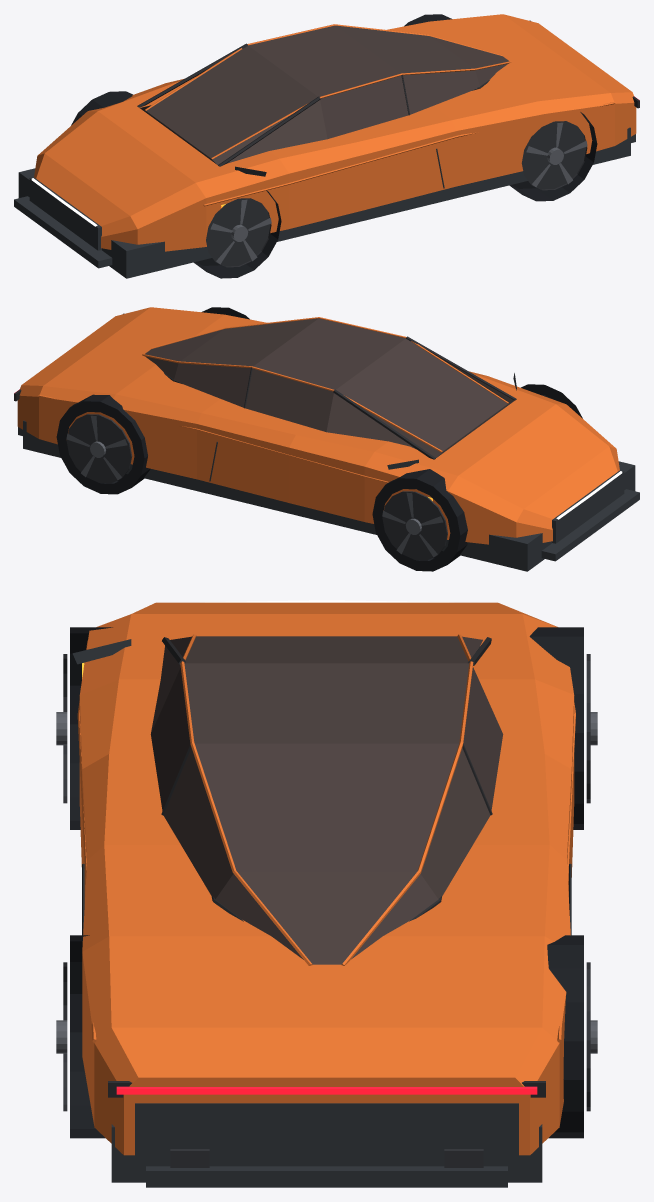
The model's file is roadster_08_orange.glb.
3 views of the same model, one above another, from view 1: azimuth 30°, elevation 25°; view 2: azimuth 150°, elevation 25°; view 3: azimuth 270°, elevation 25° (orthographic). The views are drawn at different scales.
Visible parts, largest first — view 1: Web mesh - Ano White satin.007, Smoked panoramic canopy, Web mesh - Graphite lower aero.007, Web mesh - Hub center.007, Web mesh - Tire rubber.007, Web mesh - Wheel dark alloy.007, Web mesh - Dark window trim.007; view 2: Web mesh - Ano White satin.007, Smoked panoramic canopy, Web mesh - Graphite lower aero.007, Web mesh - Tire rubber.007, Web mesh - Hub center.007, Web mesh - Wheel dark alloy.007, Web mesh - Dark window trim.007; view 3: Web mesh - Ano White satin.007, Smoked panoramic canopy, Web mesh - Graphite lower aero.007, Web mesh - Tire rubber.007, Web mesh - Hub center.007, Web mesh - Rear light red.007, Web mesh - Dark window trim.007, Web mesh - Wheel dark alloy.007.
Part boxes in pixels (x1,y1,x2,y2): Web mesh - Ano White satin.007: (34,14,636,251); Smoked panoramic canopy: (140,25,508,164); Web mesh - Graphite lower aero.007: (14,127,635,278); Web mesh - Hub center.007: (206,121,587,267); Web mesh - Tire rubber.007: (71,14,597,278); Web mesh - Wheel dark alloy.007: (210,122,587,264); Web mesh - Dark window trim.007: (137,20,639,166); Web mesh - Ano White satin.007: (17,307,619,544); Smoked panoramic canopy: (145,318,514,457); Web mesh - Graphite lower aero.007: (18,373,639,571); Web mesh - Tire rubber.007: (56,307,582,571); Web mesh - Hub center.007: (66,395,556,560); Web mesh - Wheel dark alloy.007: (66,395,544,557); Web mesh - Dark window trim.007: (14,313,516,459); Web mesh - Ano White satin.007: (77,602,575,1155); Smoked panoramic canopy: (150,636,503,964); Web mesh - Graphite lower aero.007: (72,639,571,1187); Web mesh - Tire rubber.007: (70,627,583,1138); Web mesh - Hub center.007: (63,654,590,1167); Web mesh - Rear light red.007: (116,1086,537,1094); Web mesh - Dark window trim.007: (108,637,545,1097); Web mesh - Wheel dark alloy.007: (56,712,597,1053).
Size of the model in its own units: 5.05 by 1.21 by 2.21.
